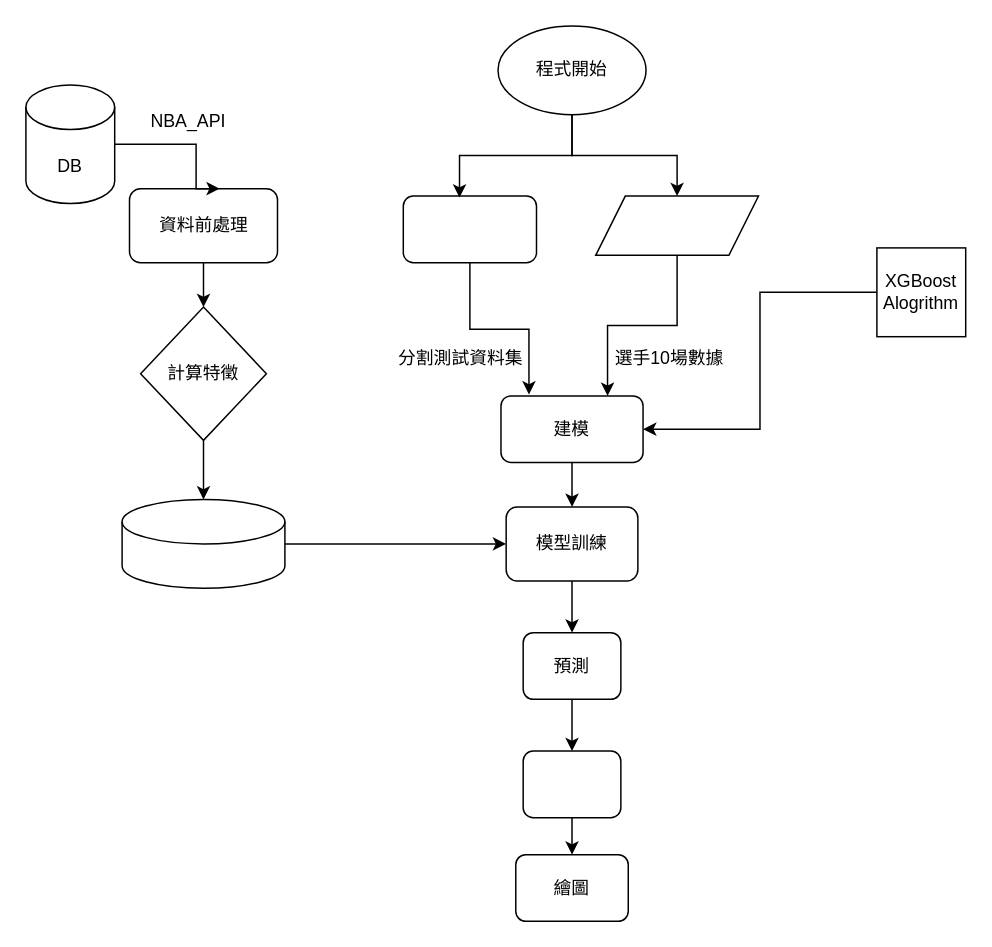
Some shapes in this 992 by 947 pixel diagram are drawn without their labels. The shapes that lost their labels are listed below. From the top down, each one's centre as x and y in pixels, then its label:
pixel 469 229: 分割資料集
pixel 676 225: 輸入選手名稱
pixel 203 543: 整理過的資料
pixel 571 784: 分析
